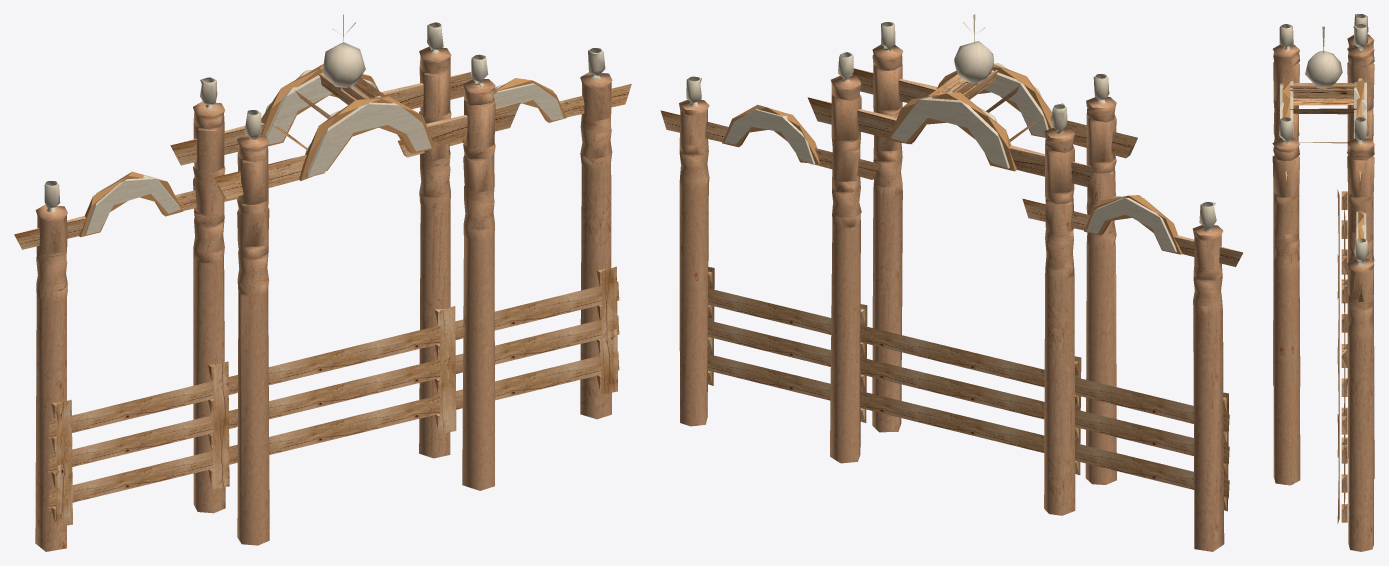
File: entry.glb
3 renders of one model, left to right at view 1: azimuth 30°, elevation 25°; view 2: azimuth 150°, elevation 25°; view 3: azimuth 270°, elevation 25°, orthographic. The views are drawn at different scales.
Visible parts, largest first — view 1: Сэргэлэр; view 2: Сэргэлэр; view 3: Сэргэлэр.
Part boxes in pixels (box(x1,y1,x2,y2)): Сэргэлэр: box(14, 14, 631, 551); Сэргэлэр: box(660, 14, 1242, 551); Сэргэлэр: box(1272, 14, 1374, 551).
Bounding box in the file's own units: 6.32 × 4.7 × 1.07.
3 materials, 3 textured.
